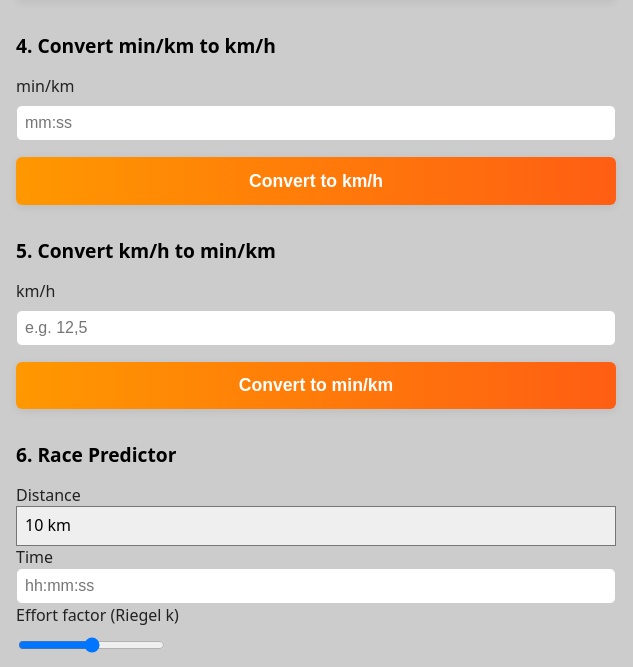
App flows › Convert km/h to min/km: 12,0 -> 5:00
This screenshot has width=633, height=667.
(page scrolled)
Type "12,0" into the field labelled "km/h". click: (316, 328)
box: left=16, top=310, right=616, bottom=346
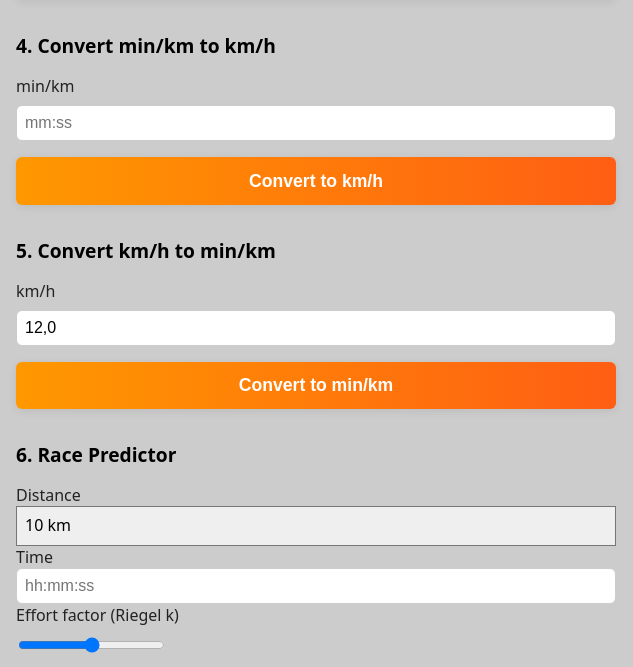
Click the button "Convert to min/km". click: (316, 385)
box: left=16, top=362, right=616, bottom=409
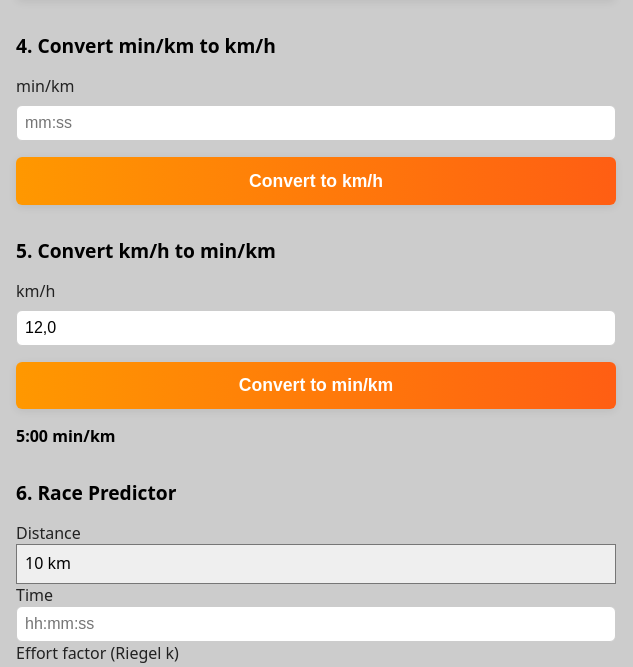
Expected: the text "5:00 min/km" is shown, left=16, top=425, right=116, bottom=447
